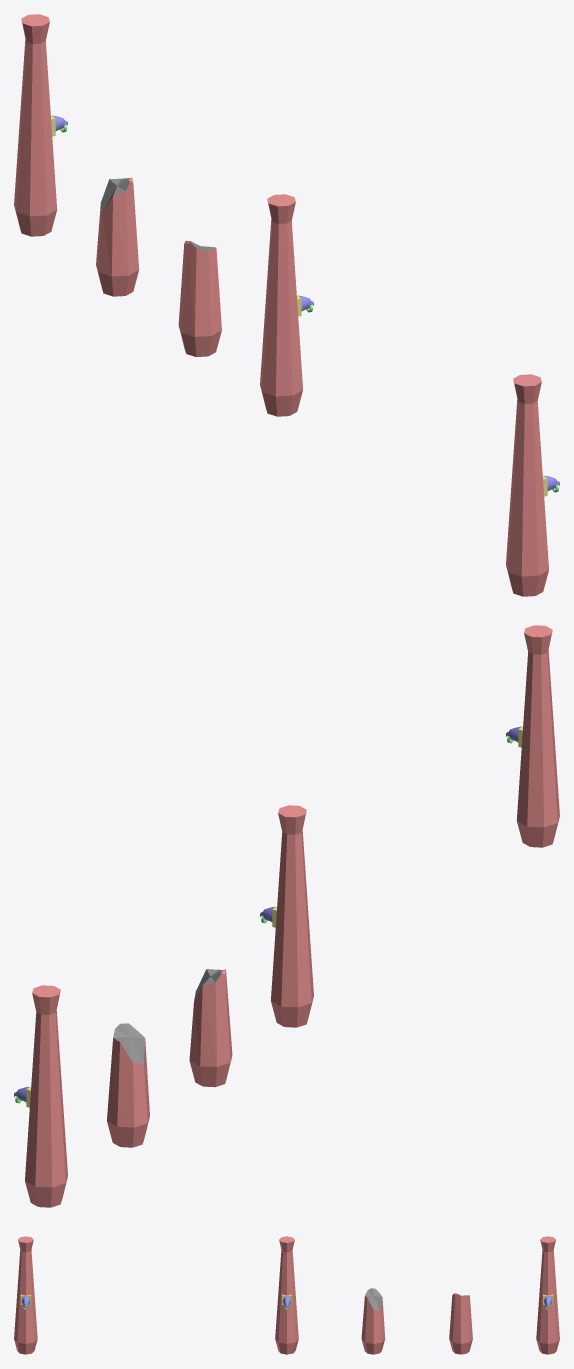
The model's file is SSQ_BRoom_pillar03.gltf.
3 views of the same model, one above another, from view 1: azimuth 30°, elevation 25°; view 2: azimuth 150°, elevation 25°; view 3: azimuth 270°, elevation 25° (orthographic). The views are drawn at different scales.
Visible parts, largest first — view 1: SSQ_BRoom_pillar03; view 2: SSQ_BRoom_pillar03; view 3: SSQ_BRoom_pillar03.
Boxes of the visible parts, box(x1,y1,x2,y2) form: SSQ_BRoom_pillar03: box(14, 14, 559, 596); SSQ_BRoom_pillar03: box(14, 625, 559, 1207); SSQ_BRoom_pillar03: box(14, 1236, 559, 1354).
Bounding box in the file's own units: 0.935 × 3.61 × 16.06.
